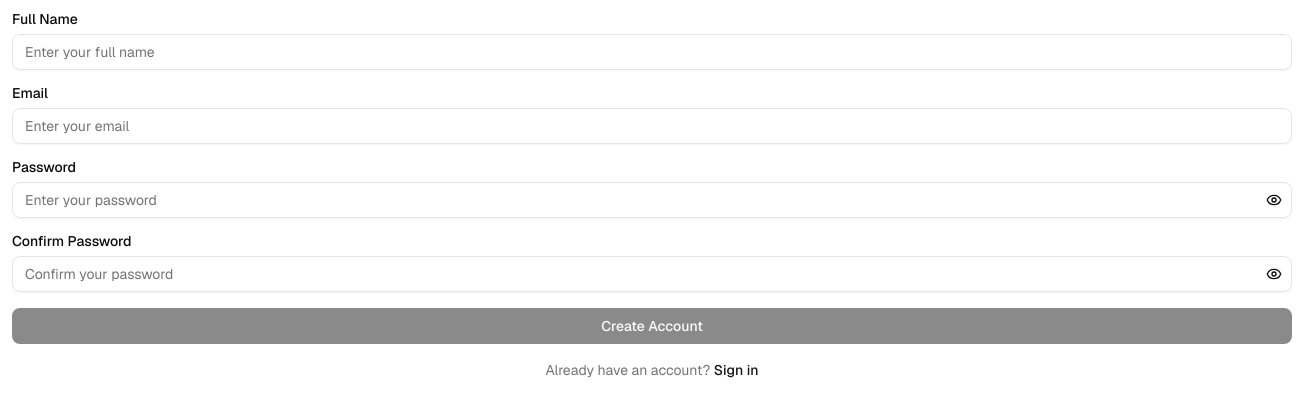
Test: RegisterForm Integration Tests › Form Rendering and Validation › should disable submit button when form is invalid
Expected: the button "Create Account" is disabled, [12,308,1292,344]
Fill in partial form
Type "John Doe" into the field labelled "Full Name" at (652, 52), box [12,34,1292,70]
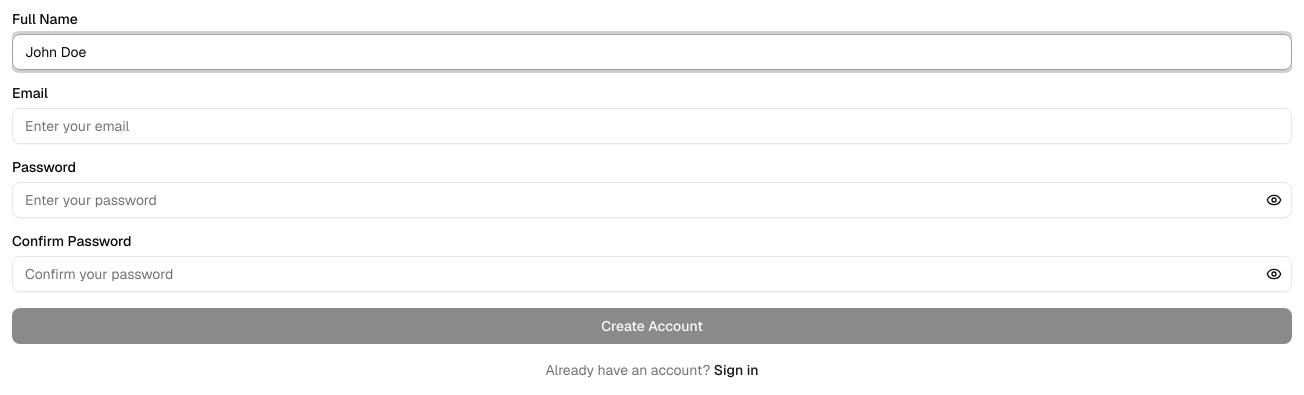
Type "john@example.com" into the field labelled "Email" at (652, 126), box [12,108,1292,144]
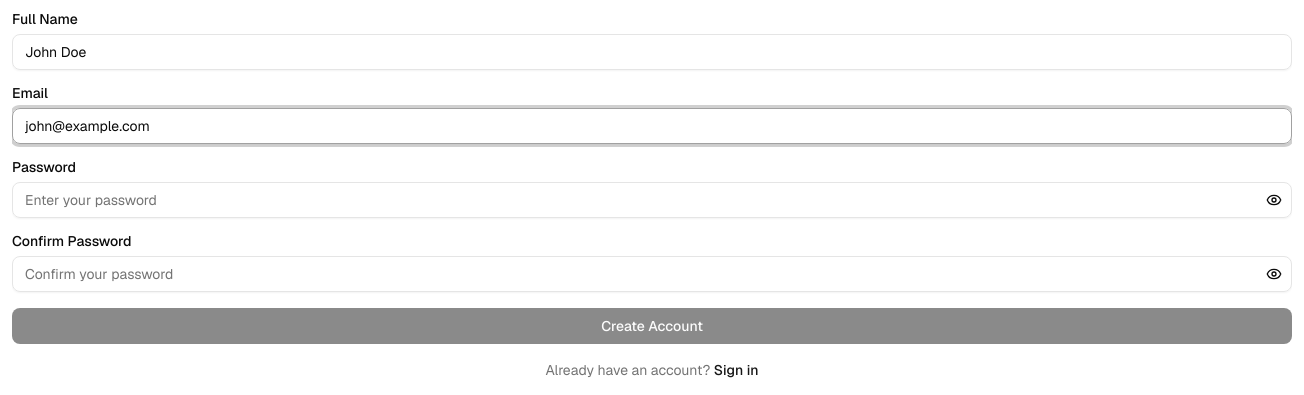
Expected: the button "Create Account" is disabled, [12,308,1292,344]
Complete form with valid data
Type "password123" into the password field labelled "Password" at (652, 200), box [12,182,1292,218]
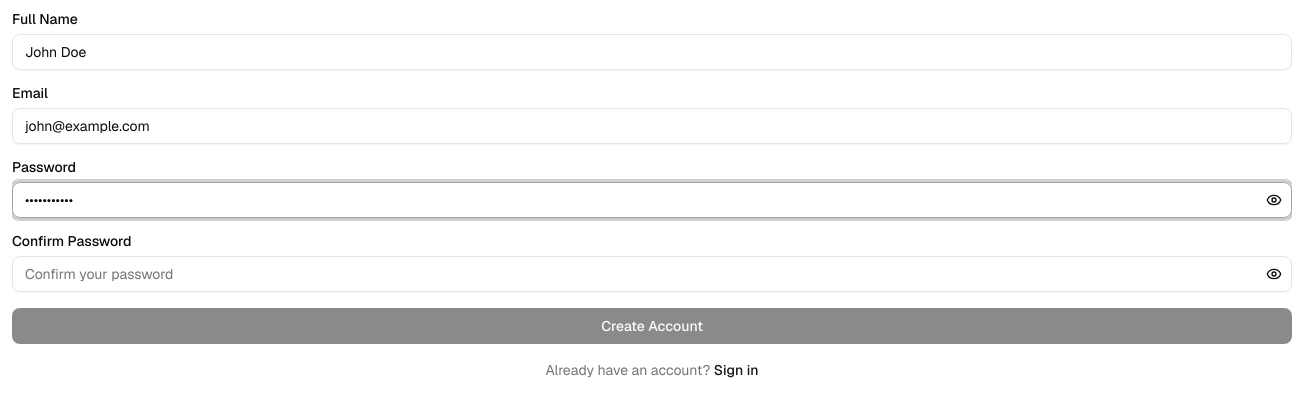
Type "password123" into the password field labelled "Confirm Password" at (652, 274), box [12,256,1292,292]
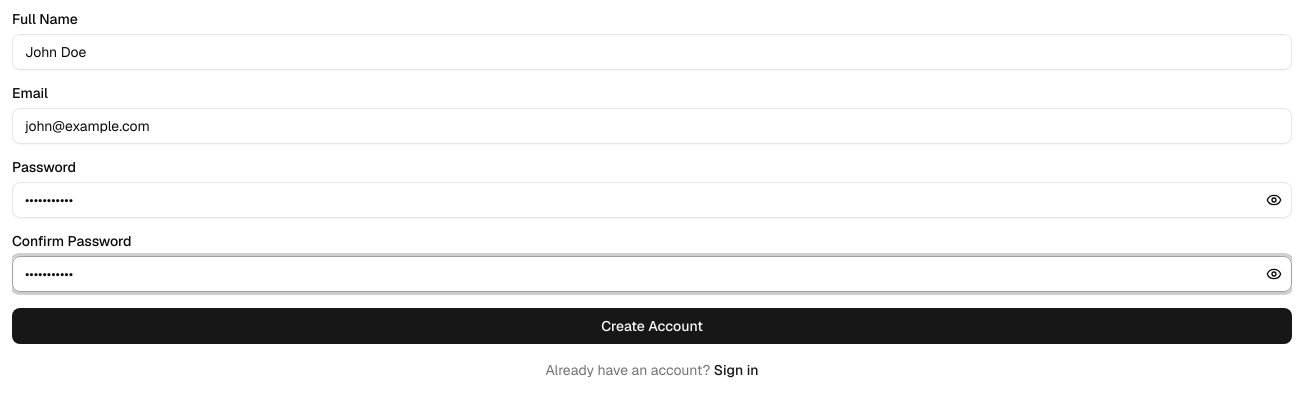
Now the button "Create Account" is enabled, box [12,308,1292,344]
